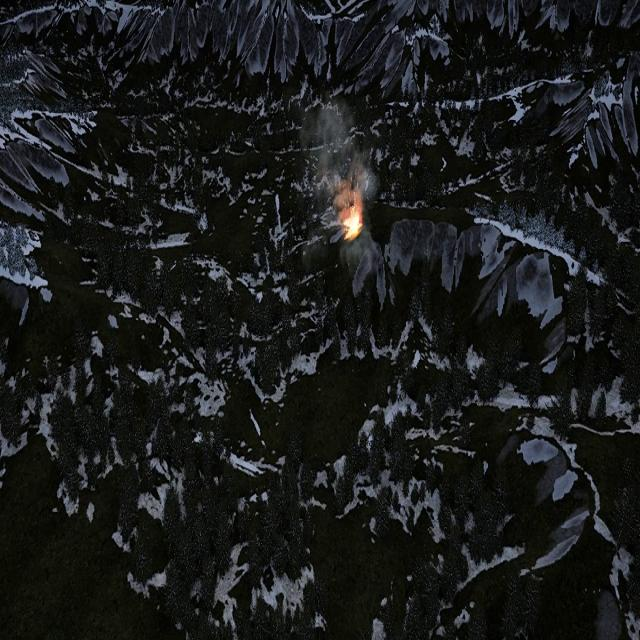fire: (344, 206, 364, 240)
smoke: (302, 102, 380, 232)
